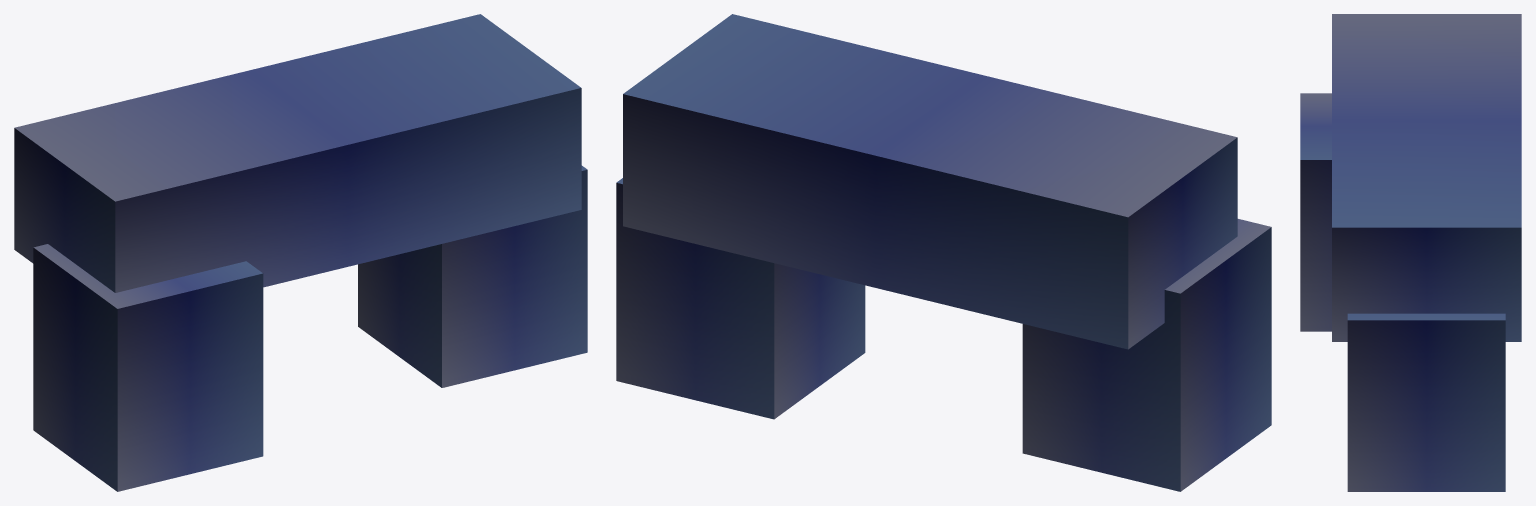
Rendered from BuildingTunnel.fbx.
The picture shows the model from 3 angles, left to right: view 1: azimuth 30°, elevation 25°; view 2: azimuth 150°, elevation 25°; view 3: azimuth 270°, elevation 25°; orthographic projection. The views are drawn at different scales.
Parts seen in each view (by area): view 1: cube, cube_1, cube_2; view 2: cube, cube_1, cube_2; view 3: cube, cube_2, cube_1.
Boxes of the visible parts, x1,y1,x2,y2 form: cube: (14,14,581,292); cube_1: (33,244,263,491); cube_2: (358,165,587,387); cube: (623,14,1237,349); cube_1: (1022,219,1271,491); cube_2: (616,178,865,419); cube: (1332,14,1521,341); cube_2: (1347,313,1505,491); cube_1: (1300,93,1331,331).
Bounding box in the file's own units: 212 × 112 × 87.5.
Materials: 1 (1 with a texture image).
